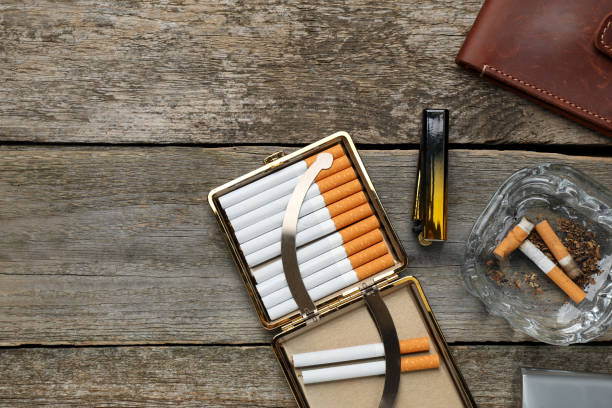cigarette: (250, 213, 382, 284), (264, 252, 396, 322), (254, 227, 386, 297), (222, 153, 353, 222), (242, 201, 374, 269), (260, 240, 390, 309), (217, 142, 347, 210), (227, 166, 358, 233), (233, 178, 365, 244), (238, 190, 370, 255), (290, 335, 430, 370), (517, 238, 587, 306), (300, 352, 441, 385), (534, 218, 584, 282), (492, 215, 536, 263)
